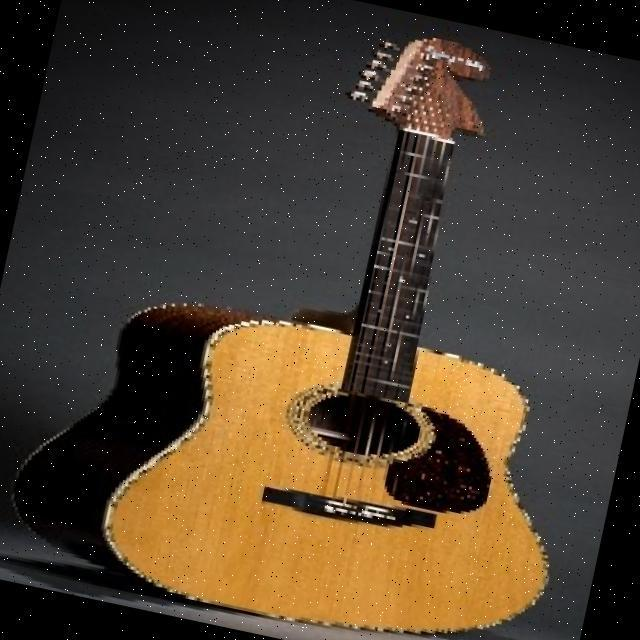acousticguitar: (15, 38, 546, 631)
